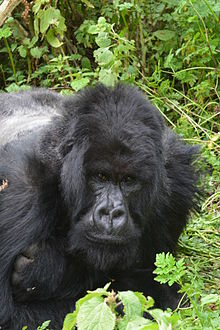Goriila: (10, 76, 196, 330)
